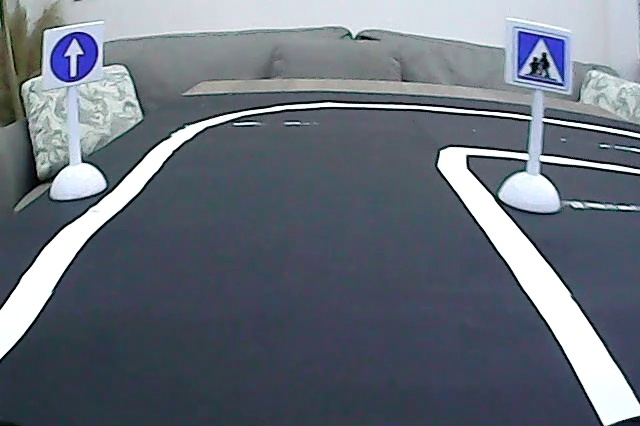school crossing: (512, 26, 569, 91)
